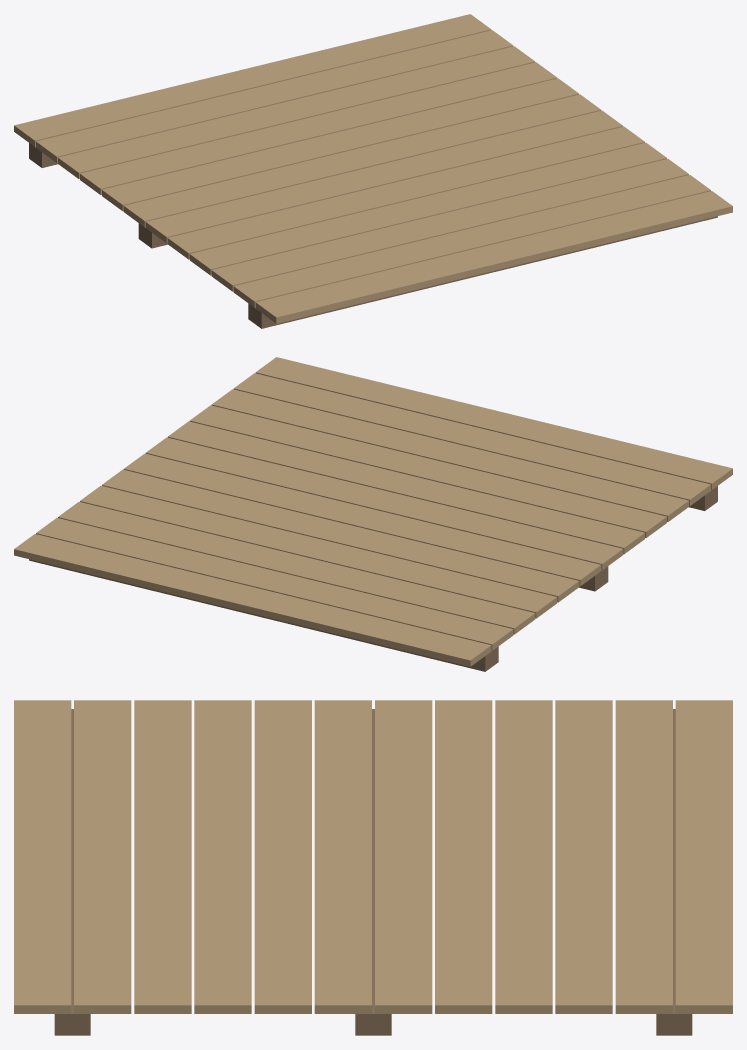
Rendered from korean-hanok-village-and-street-hanok-maru-floor-modul-1be3f4e4__38038.glb.
The picture shows the model from 3 angles, top to bottom: view 1: azimuth 30°, elevation 25°; view 2: azimuth 150°, elevation 25°; view 3: azimuth 270°, elevation 25°; orthographic projection. The views are drawn at different scales.
Parts seen in each view (by area): view 1: hanok-maru-floor-module; view 2: hanok-maru-floor-module; view 3: hanok-maru-floor-module.
Boxes of the visible parts, bbox=[...] form: hanok-maru-floor-module: bbox=[14, 14, 732, 328]; hanok-maru-floor-module: bbox=[14, 357, 732, 671]; hanok-maru-floor-module: bbox=[14, 700, 732, 1035].
Bounding box in the file's own units: 3 × 0.1399 × 2.99.
